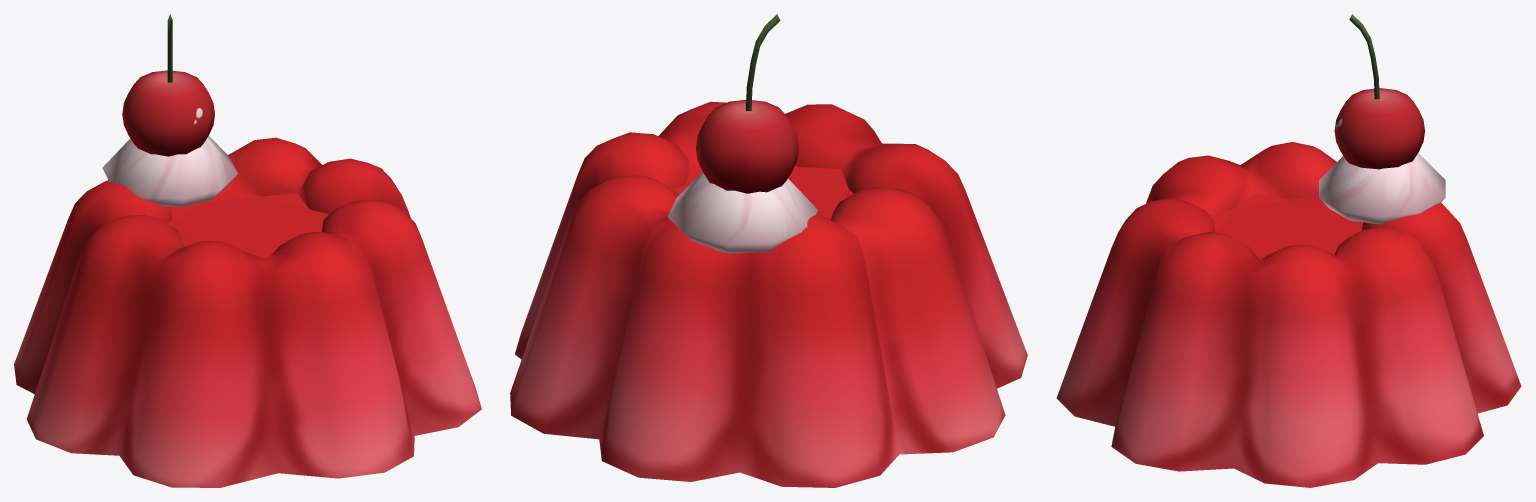
The model's file is pudding.fbx.
The picture shows the model from 3 angles, left to right: view 1: azimuth 30°, elevation 25°; view 2: azimuth 150°, elevation 25°; view 3: azimuth 270°, elevation 25°; orthographic projection. The views are drawn at different scales.
Parts seen in each view (by area): view 1: Cylinder002; view 2: Cylinder002; view 3: Cylinder002.
Boxes of the visible parts, x1=… form: Cylinder002: x1=14, y1=14, x2=481, y2=487; Cylinder002: x1=510, y1=14, x2=1027, y2=487; Cylinder002: x1=1056, y1=14, x2=1521, y2=487.
Size of the model in its own units: 107 by 89.26 by 106.
Materials: 1 (1 with a texture image).
